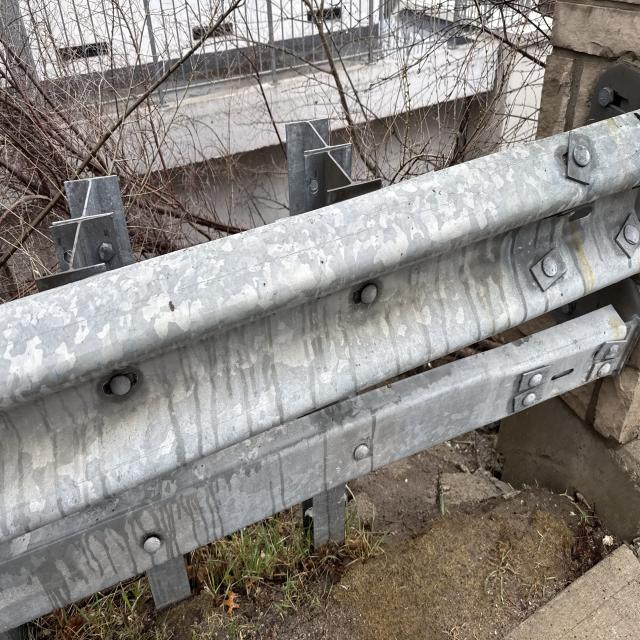Guard rail: (21, 131, 638, 490)
